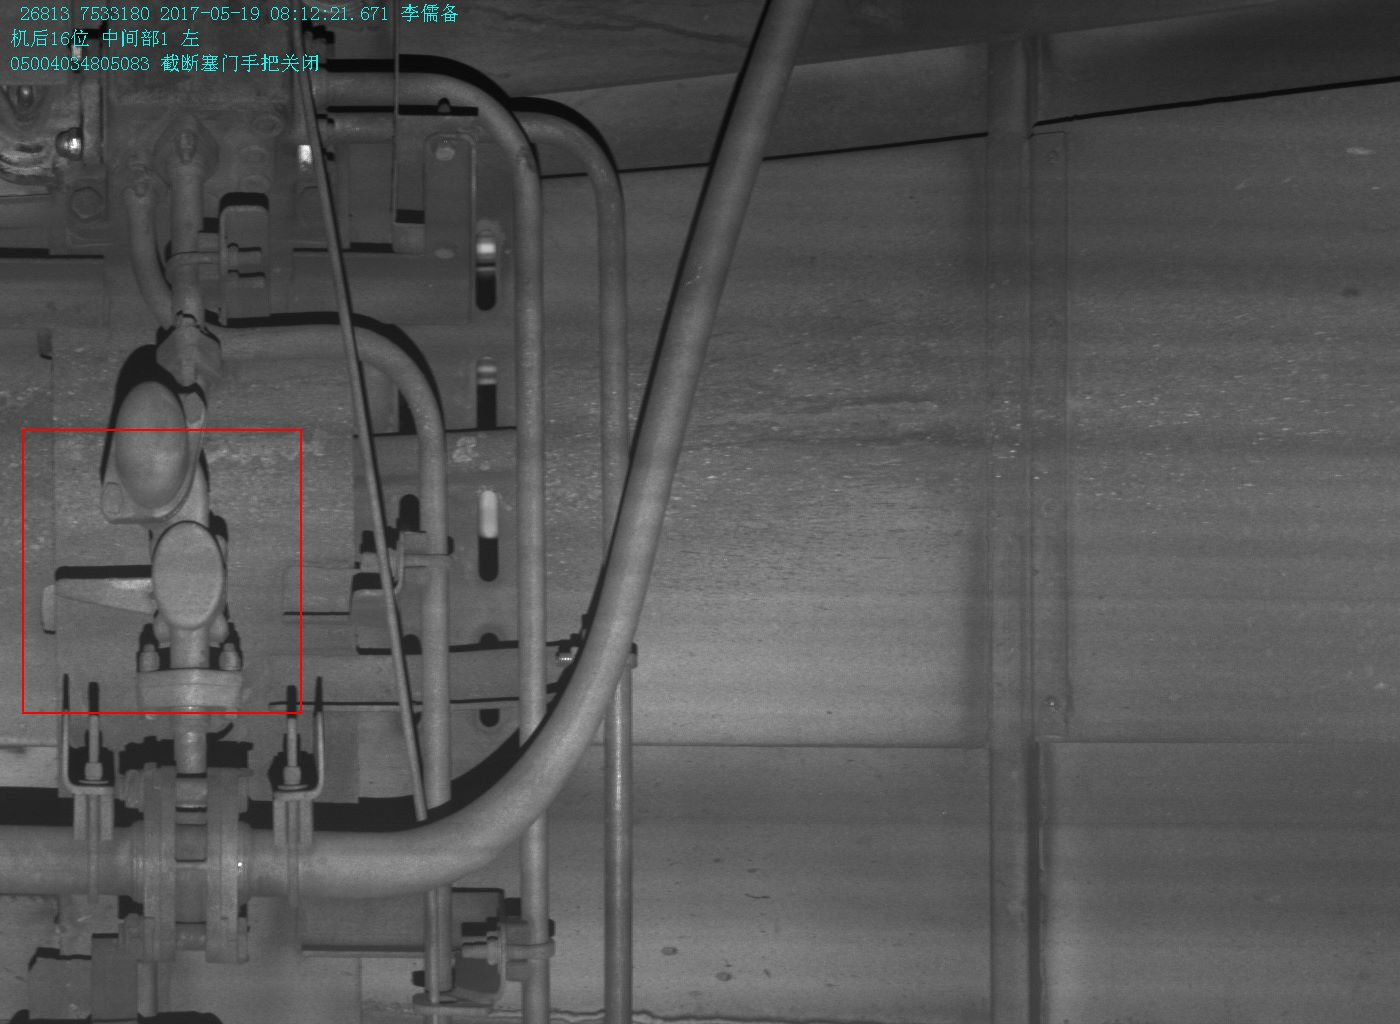truncated plug door handle: (51, 519, 234, 632)
